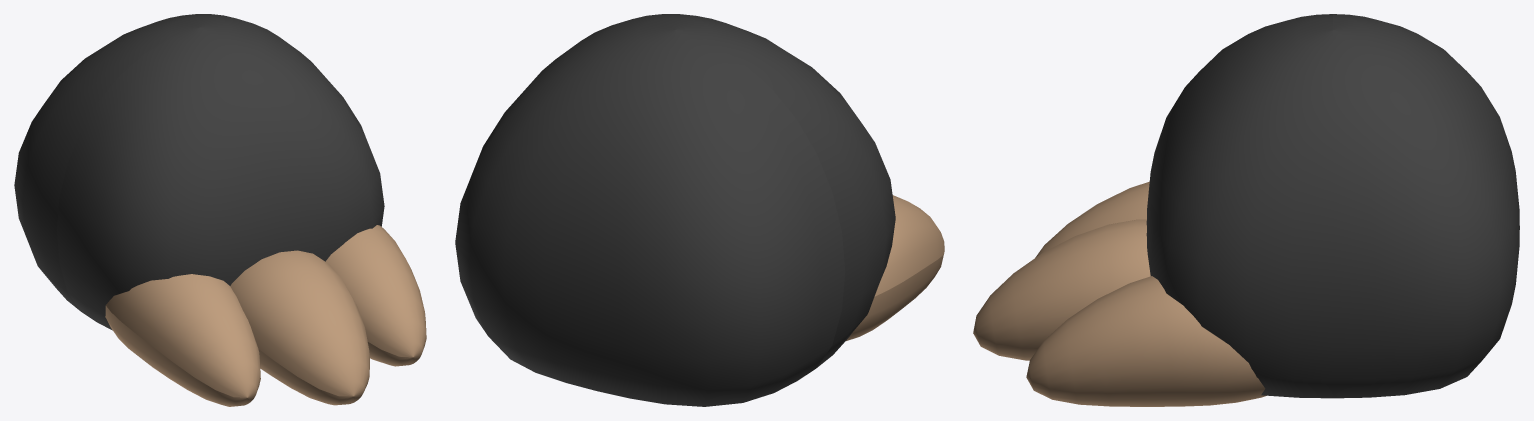
The model's file is foot_sloth.glb.
3 renders of one model, left to right at view 1: azimuth 30°, elevation 25°; view 2: azimuth 150°, elevation 25°; view 3: azimuth 270°, elevation 25°, orthographic. The views are drawn at different scales.
Parts seen in each view (by area): view 1: CombinedMesh_MaterialSlots; view 2: CombinedMesh_MaterialSlots; view 3: CombinedMesh_MaterialSlots.
Part boxes in pixels (<box>): CombinedMesh_MaterialSlots: <box>14,14,426,406</box>; CombinedMesh_MaterialSlots: <box>455,14,944,406</box>; CombinedMesh_MaterialSlots: <box>973,14,1519,406</box>.
Bounding box in the file's own units: 1.57 × 1.46 × 2.22.
